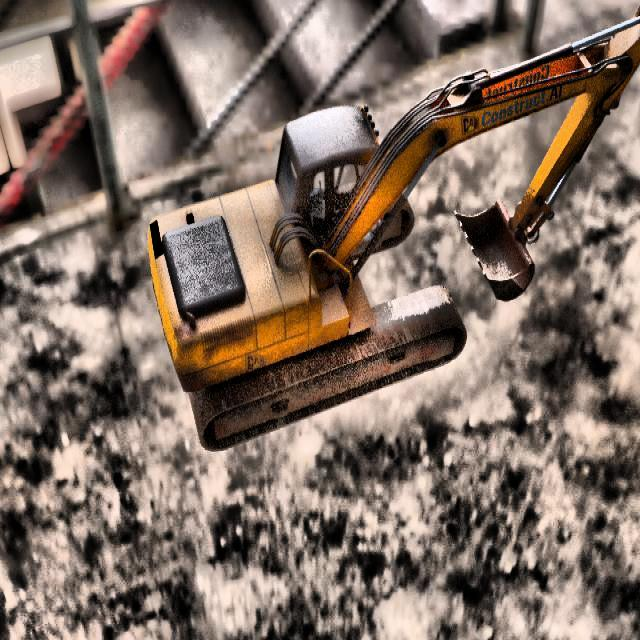excavator: (147, 7, 640, 451)
